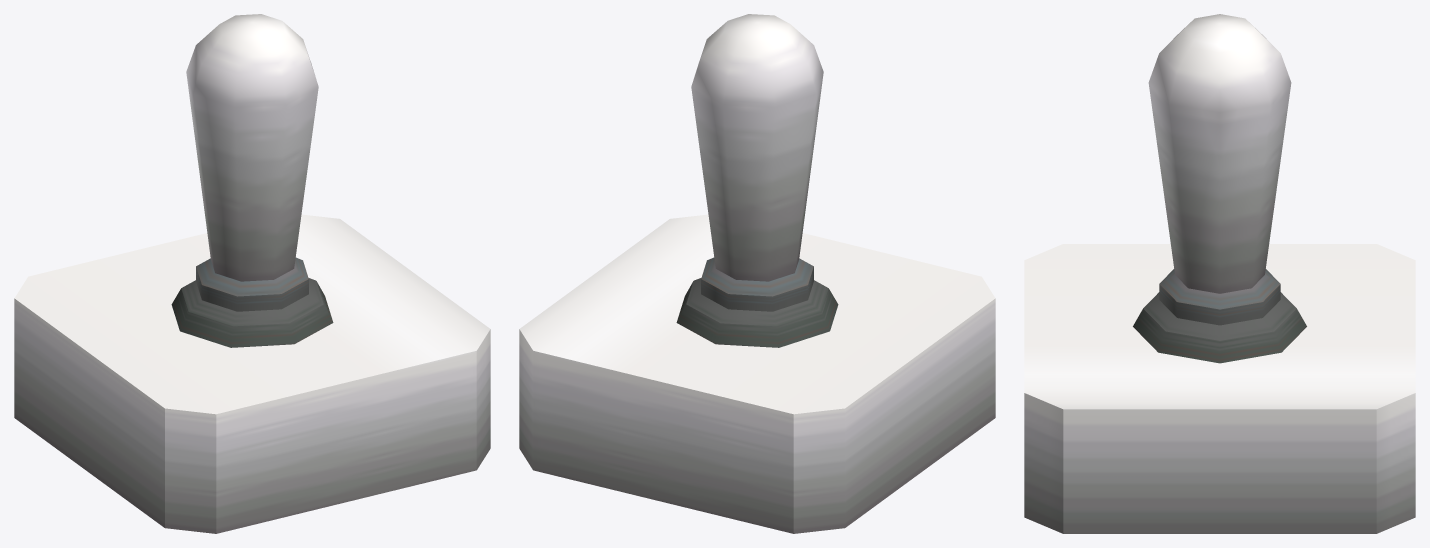
3 views of the same model, side by side, from view 1: azimuth 30°, elevation 25°; view 2: azimuth 150°, elevation 25°; view 3: azimuth 270°, elevation 25° (orthographic). The views are drawn at different scales.
Parts seen in each view (by area): view 1: CommandCenterLikeControlsSetupJoystick; view 2: CommandCenterLikeControlsSetupJoystick; view 3: CommandCenterLikeControlsSetupJoystick.
Part boxes in pixels (x1,y1,x2,y2): CommandCenterLikeControlsSetupJoystick: [14, 14, 490, 533]; CommandCenterLikeControlsSetupJoystick: [519, 14, 995, 533]; CommandCenterLikeControlsSetupJoystick: [1024, 14, 1415, 533].
Size of what is drawn, in the model's own units: 0.2111 by 0.2545 by 0.2111.
Materials: 1 (1 with a texture image).
